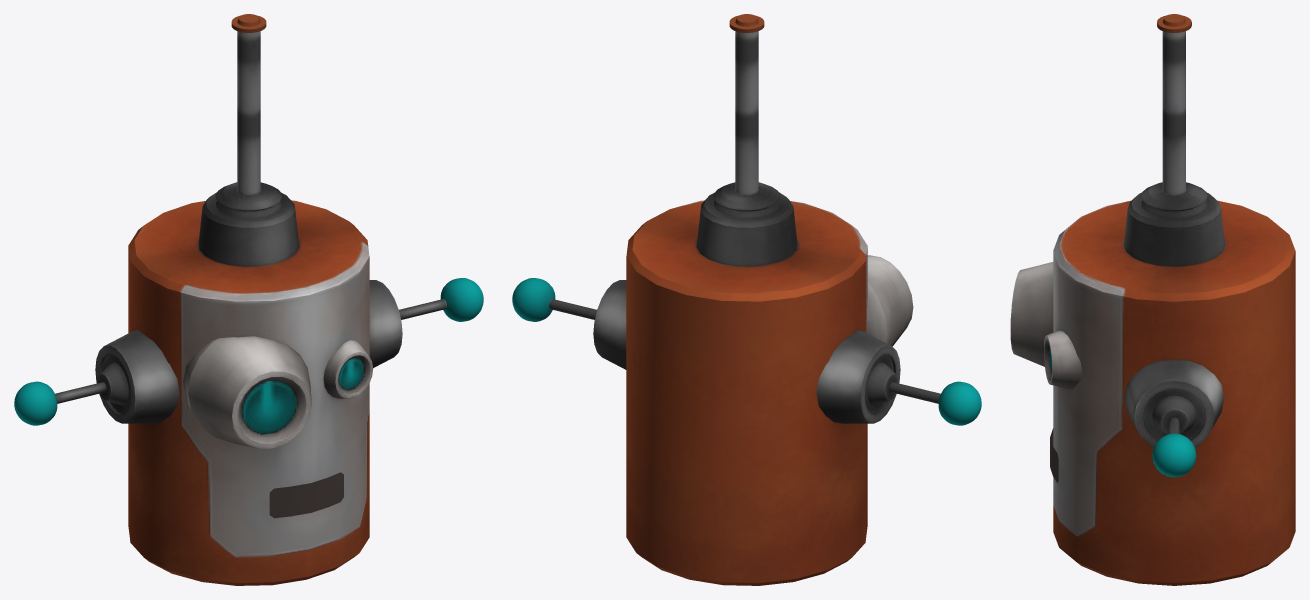
Rendered from head.obj.
3 renders of one model, left to right at view 1: azimuth 30°, elevation 25°; view 2: azimuth 150°, elevation 25°; view 3: azimuth 270°, elevation 25°, orthographic.
Visible parts, largest first — view 1: head.obj; view 2: head.obj; view 3: head.obj.
Part boxes in pixels (left/top/right/bottom): head.obj: left=14, top=14, right=483, bottom=585; head.obj: left=512, top=14, right=981, bottom=585; head.obj: left=1010, top=14, right=1295, bottom=585.
Size of the model in its own units: 0.4448 by 0.476 by 0.2369.
